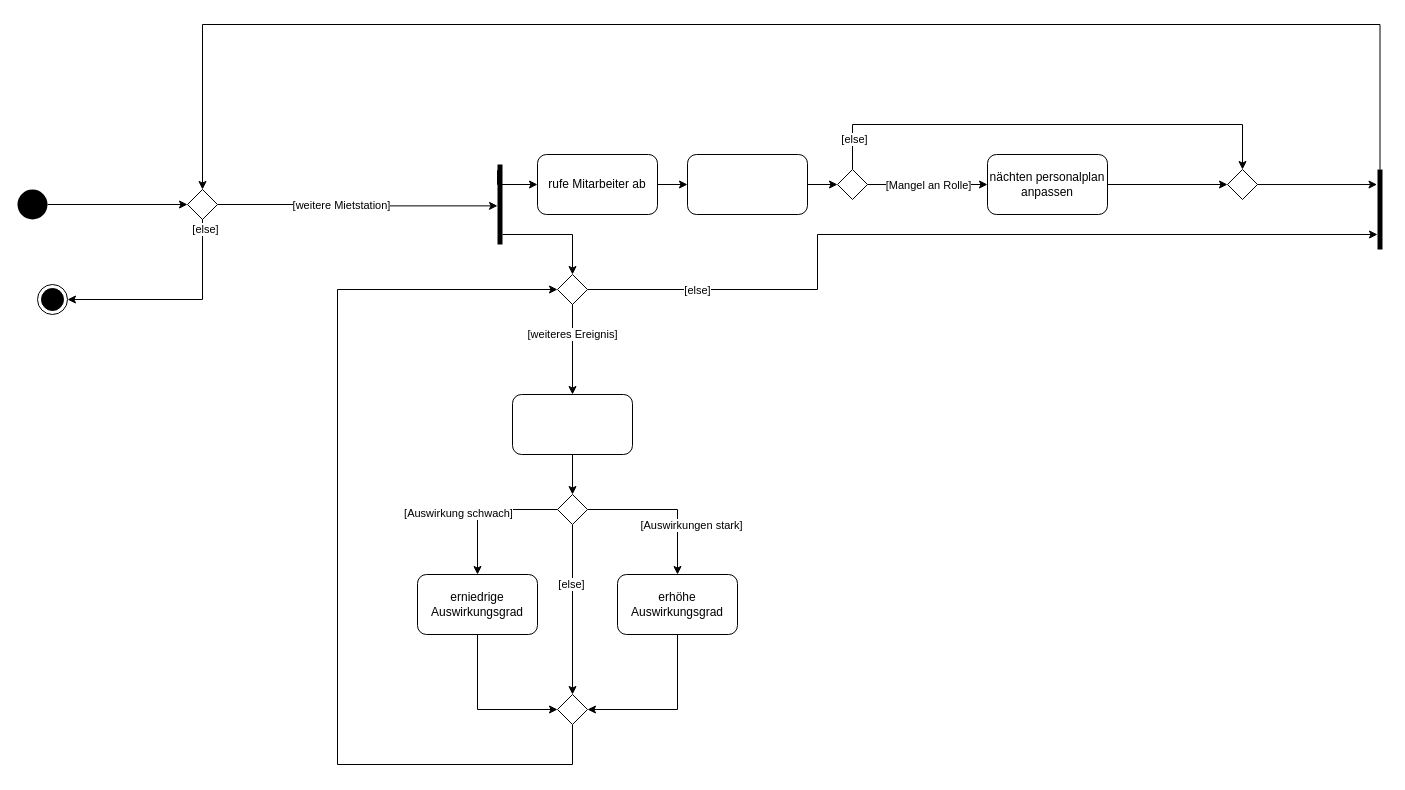
Image size: 1405x790. Some labels were removed from this diagram. The shapes that lost their labels are listed below. From the top down, each one's box as (x1, y1, x2, y2) in pixels, then its label:
(686, 154, 808, 214): prüfe Rollenverteilung
(512, 394, 632, 454): prüfe Ereignis Auswirkung
